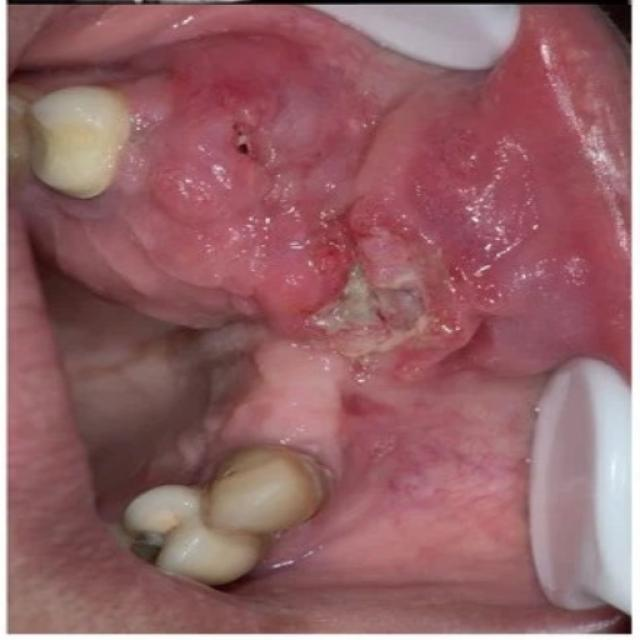cancer-detection: (17, 46, 553, 376)
processing_area: (9, 4, 635, 629)
